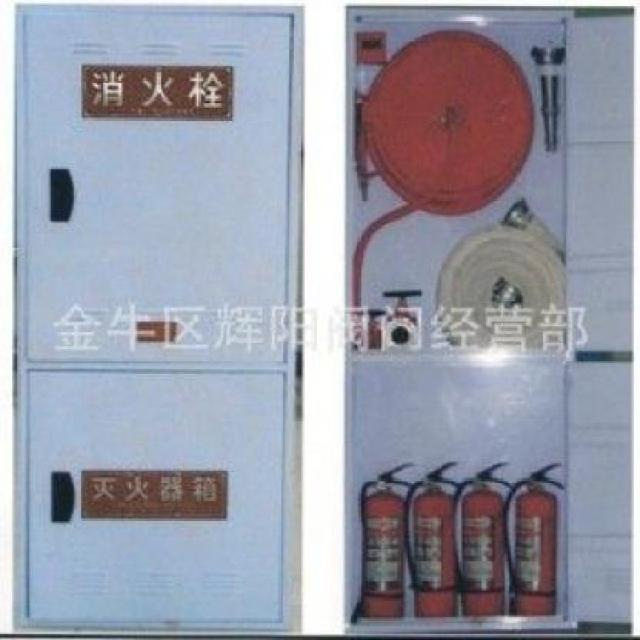firehydrant: (6, 0, 312, 634), (337, 0, 581, 640)
